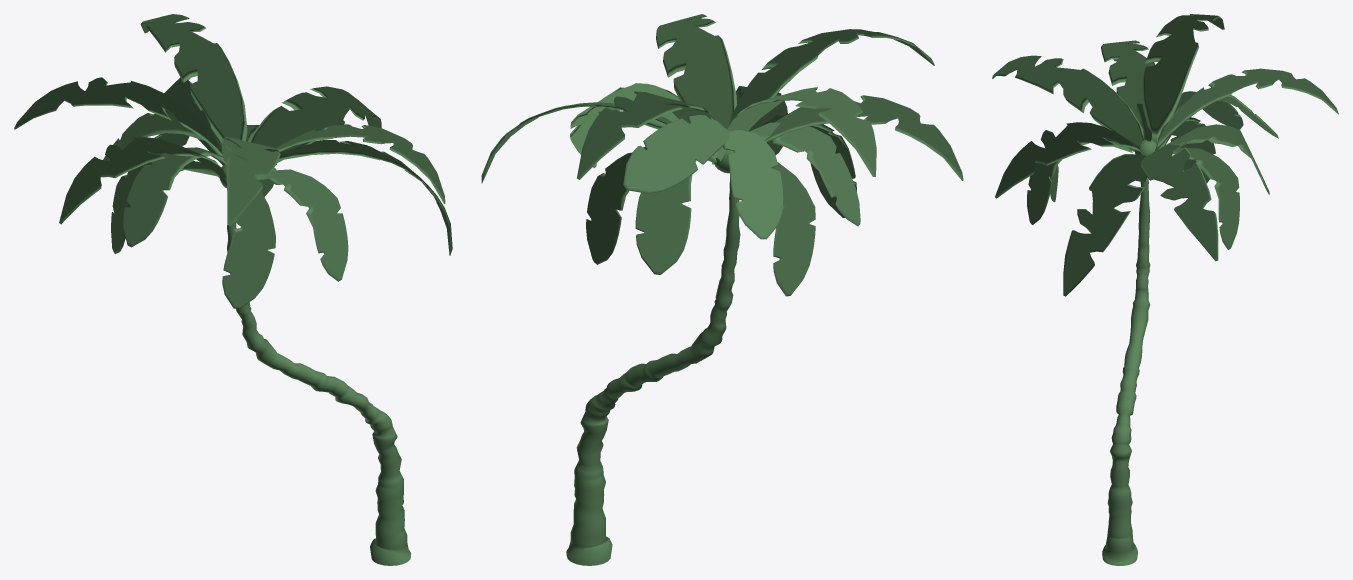
File: fol_palm_b_02_uv.fbx
3 renders of one model, left to right at view 1: azimuth 30°, elevation 25°; view 2: azimuth 150°, elevation 25°; view 3: azimuth 270°, elevation 25°, orthographic. The views are drawn at different scales.
Visible parts, largest first — view 1: paml_b_tree2; view 2: paml_b_tree2; view 3: paml_b_tree2.
Part boxes in pixels (x1,y1,x2,y2): paml_b_tree2: (14,14,452,565); paml_b_tree2: (481,14,963,565); paml_b_tree2: (992,14,1338,565).
Bounding box in the file's own units: 23.03 × 29.51 × 21.49.
